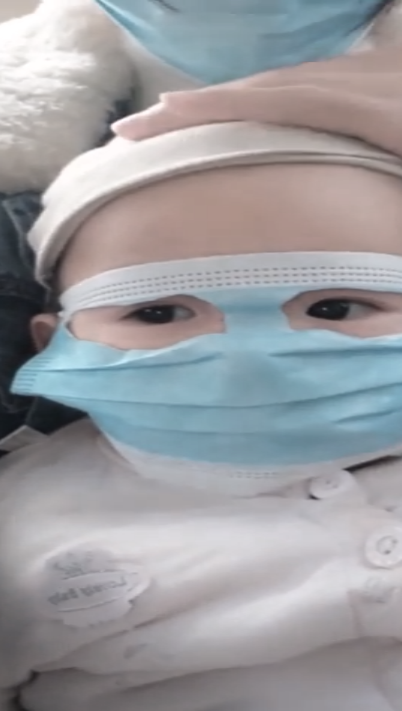mask_weared_incorrect: (15, 134, 402, 475)
